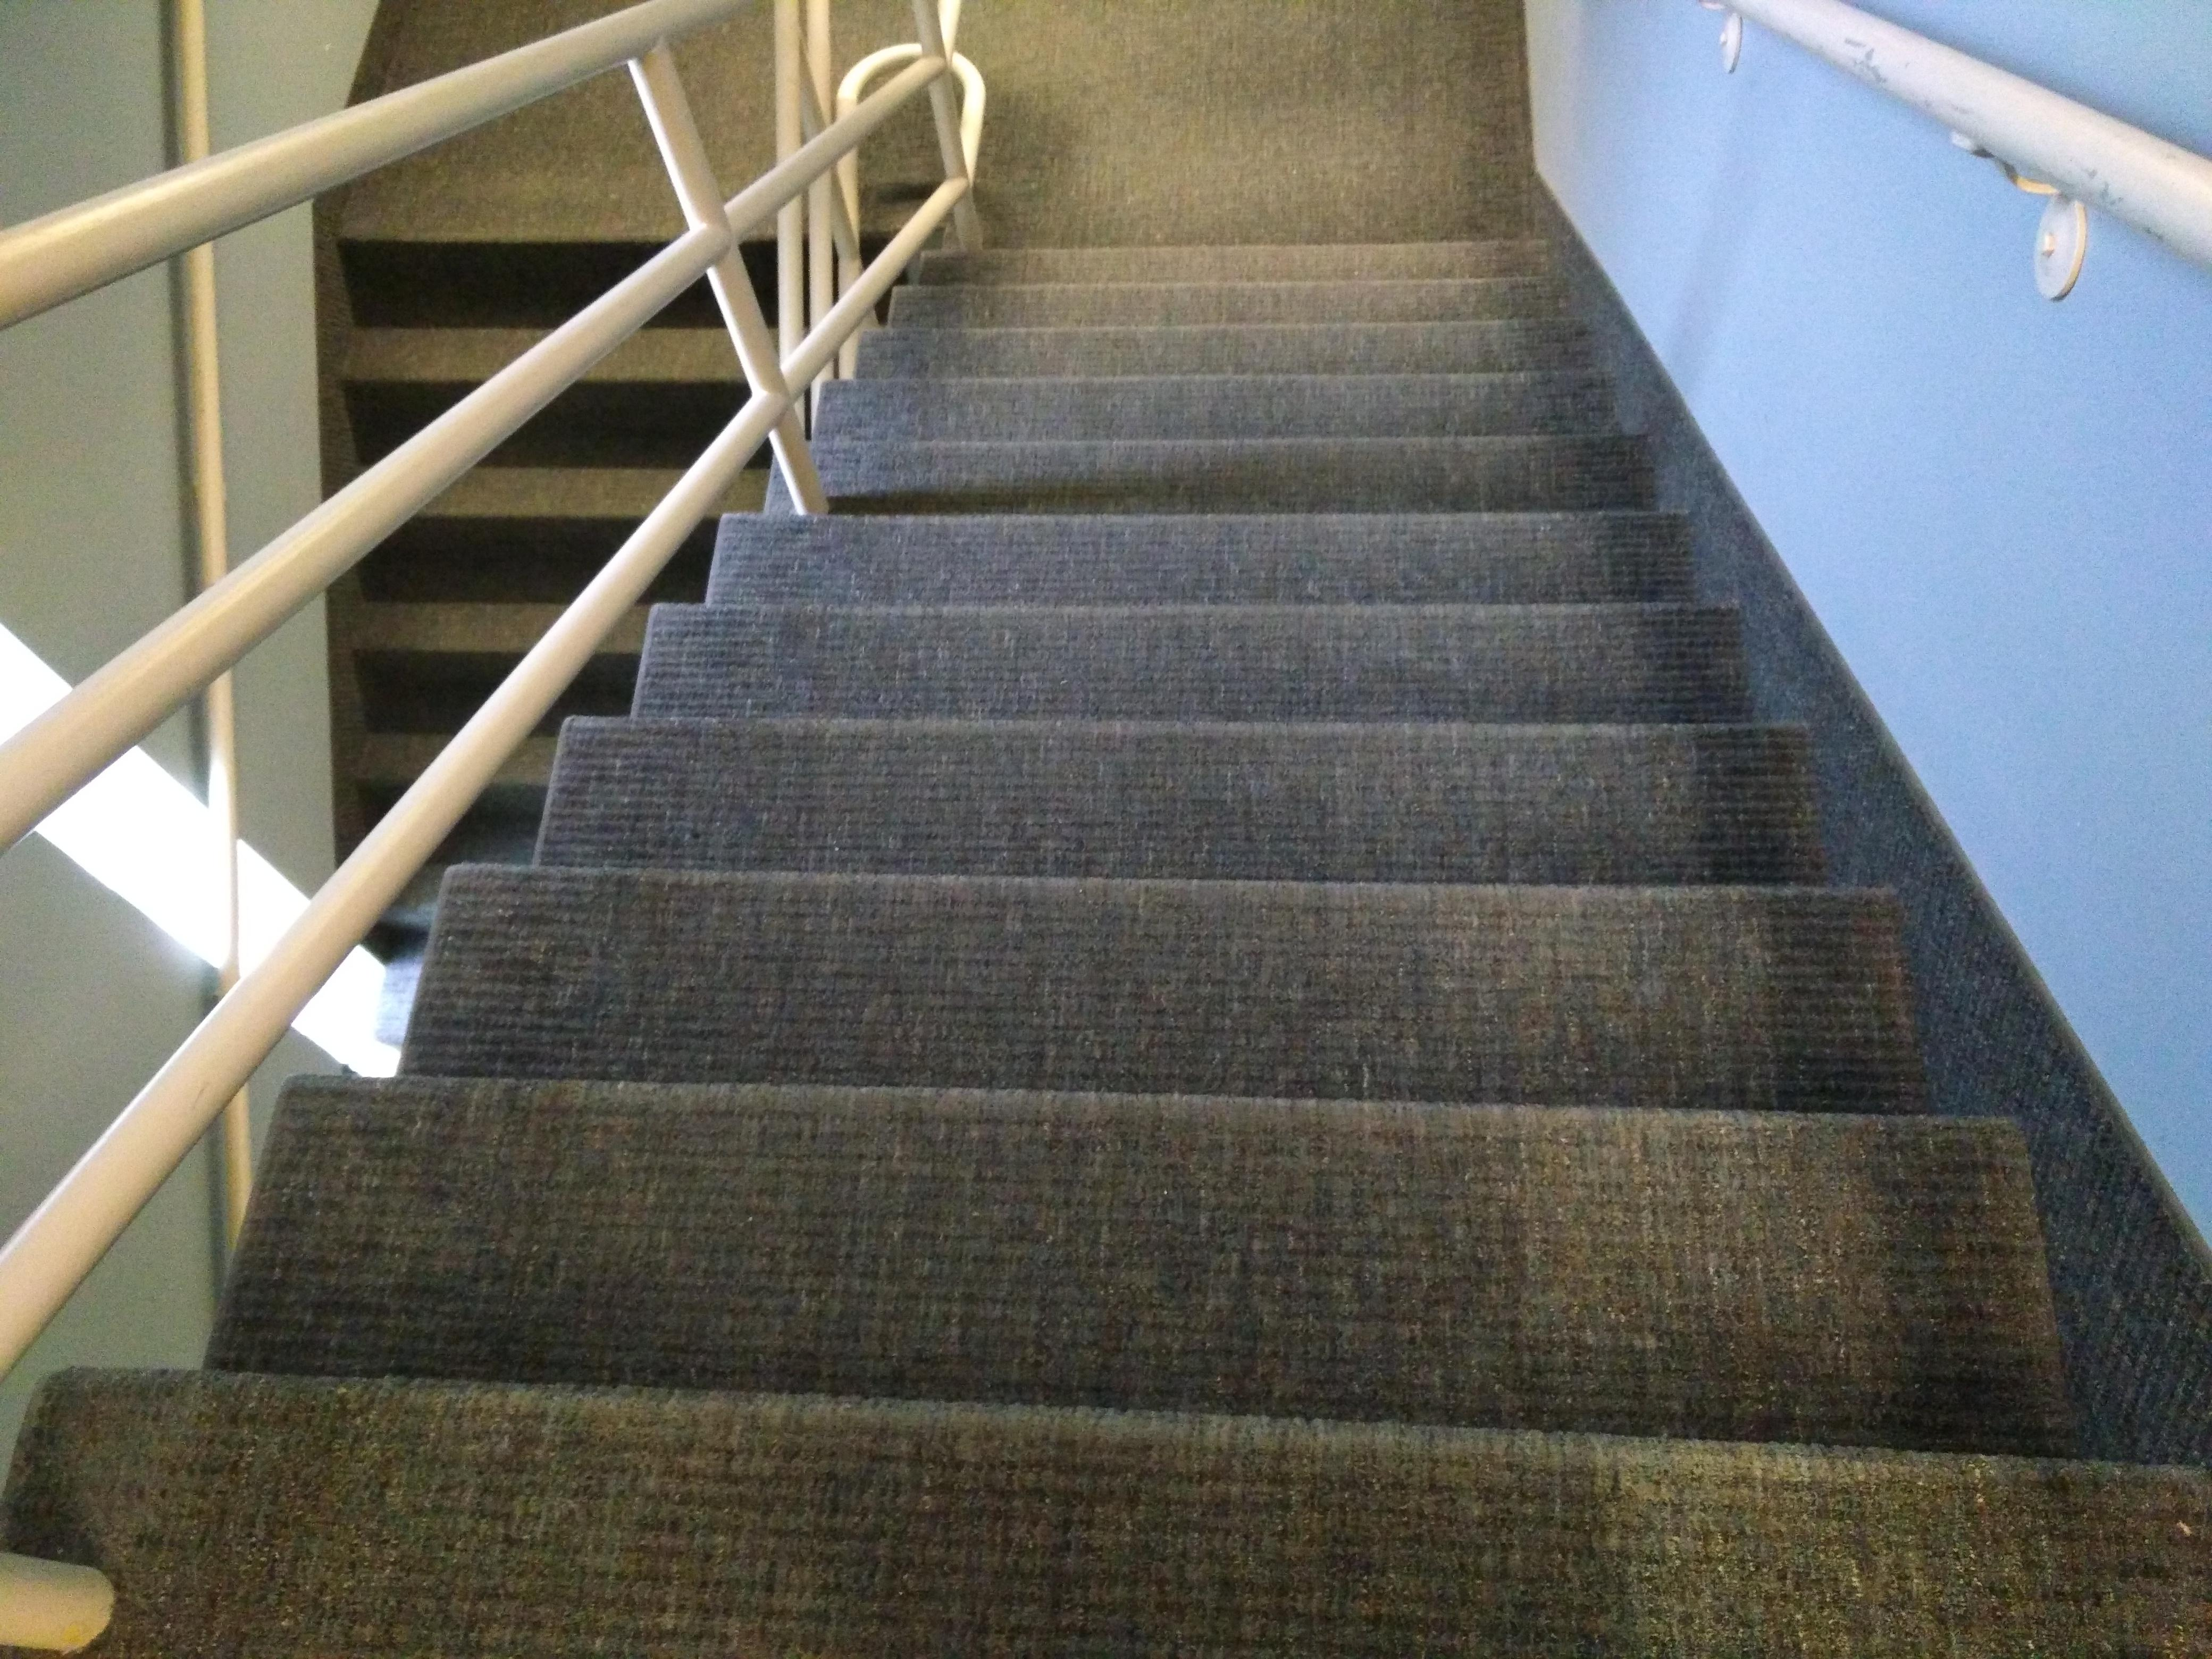stairs_down: (117, 157, 2200, 1467)
